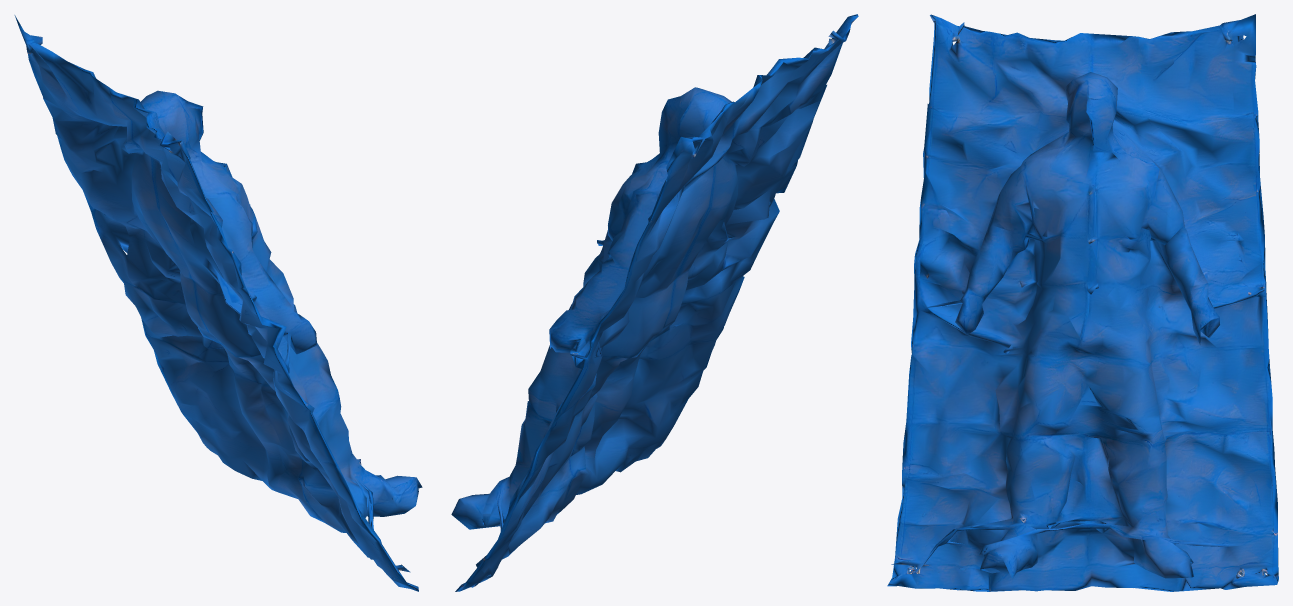
The picture shows the model from 3 angles, left to right: view 1: azimuth 30°, elevation 25°; view 2: azimuth 150°, elevation 25°; view 3: azimuth 270°, elevation 25°; orthographic projection. The views are drawn at different scales.
Parts seen in each view (by area): view 1: tripo_node_85f784ed-91dd-4c9c-969a-db2966e76c34; view 2: tripo_node_85f784ed-91dd-4c9c-969a-db2966e76c34; view 3: tripo_node_85f784ed-91dd-4c9c-969a-db2966e76c34.
Part boxes in pixels (<box>): tripo_node_85f784ed-91dd-4c9c-969a-db2966e76c34: <box>14,15,422,591</box>; tripo_node_85f784ed-91dd-4c9c-969a-db2966e76c34: <box>451,14,858,591</box>; tripo_node_85f784ed-91dd-4c9c-969a-db2966e76c34: <box>887,14,1278,591</box>.
Bounding box in the file's own units: 0.6112 × 1 × 0.7418.
1 material, 1 textured.
